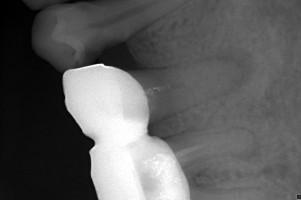Furcation Involvement: (213, 45, 258, 95), (236, 141, 263, 162), (260, 163, 289, 182)
